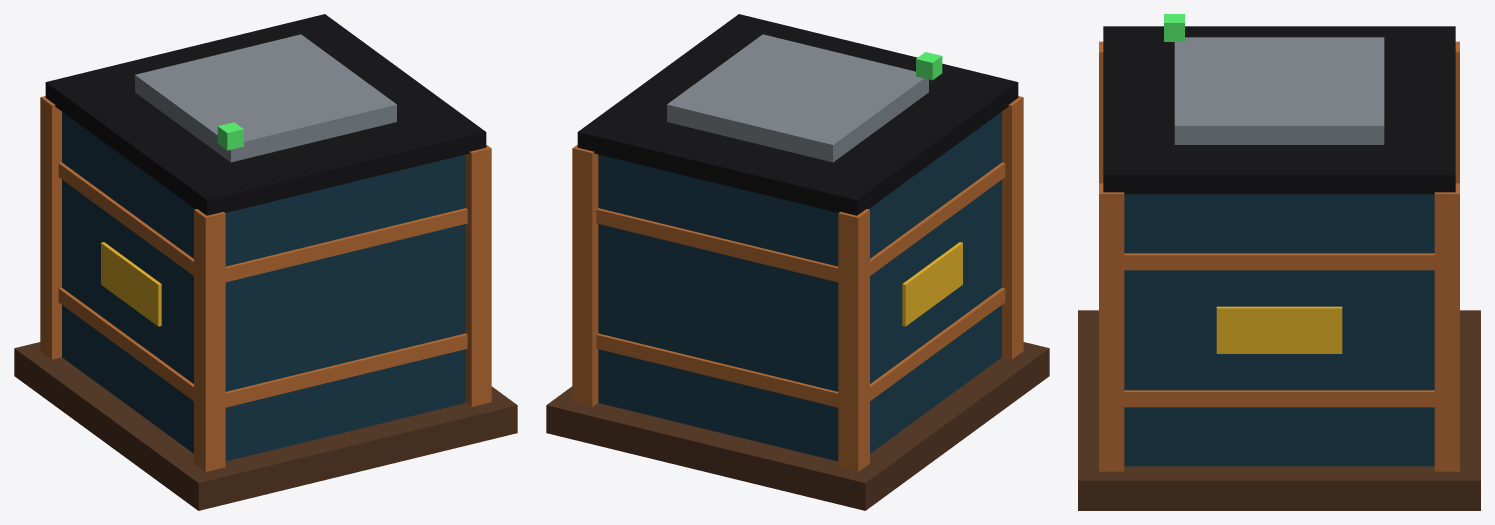
The model's file is storage_container.obj.
The picture shows the model from 3 angles, left to right: view 1: azimuth 30°, elevation 25°; view 2: azimuth 150°, elevation 25°; view 3: azimuth 270°, elevation 25°; orthographic projection. The views are drawn at different scales.
Parts seen in each view (by area): view 1: Body, Lamp; view 2: Body, Lamp; view 3: Body, Lamp.
Part boxes in pixels (x1,y1,x2,y2): Body: [14, 14, 517, 510]; Lamp: [217, 122, 243, 150]; Body: [546, 14, 1049, 510]; Lamp: [916, 52, 942, 80]; Body: [1078, 26, 1480, 510]; Lamp: [1164, 14, 1184, 41].
Size of the model in its own units: 0.96 by 0.955 by 0.96.
